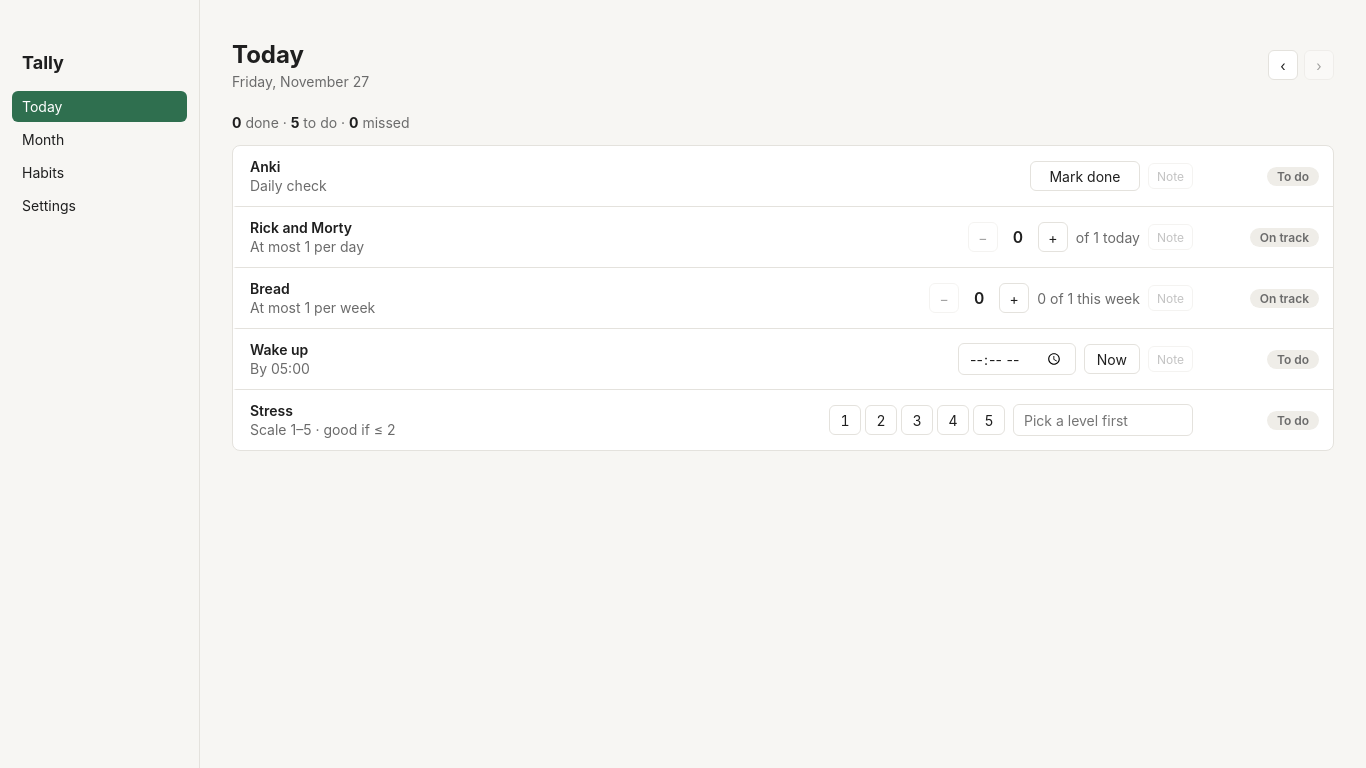
TodayPage › logs a time and shows how early it was
In the time field named "Wake up time": [1017, 359] box top-left (958, 343), bottom-right (1076, 375), type "04:48"
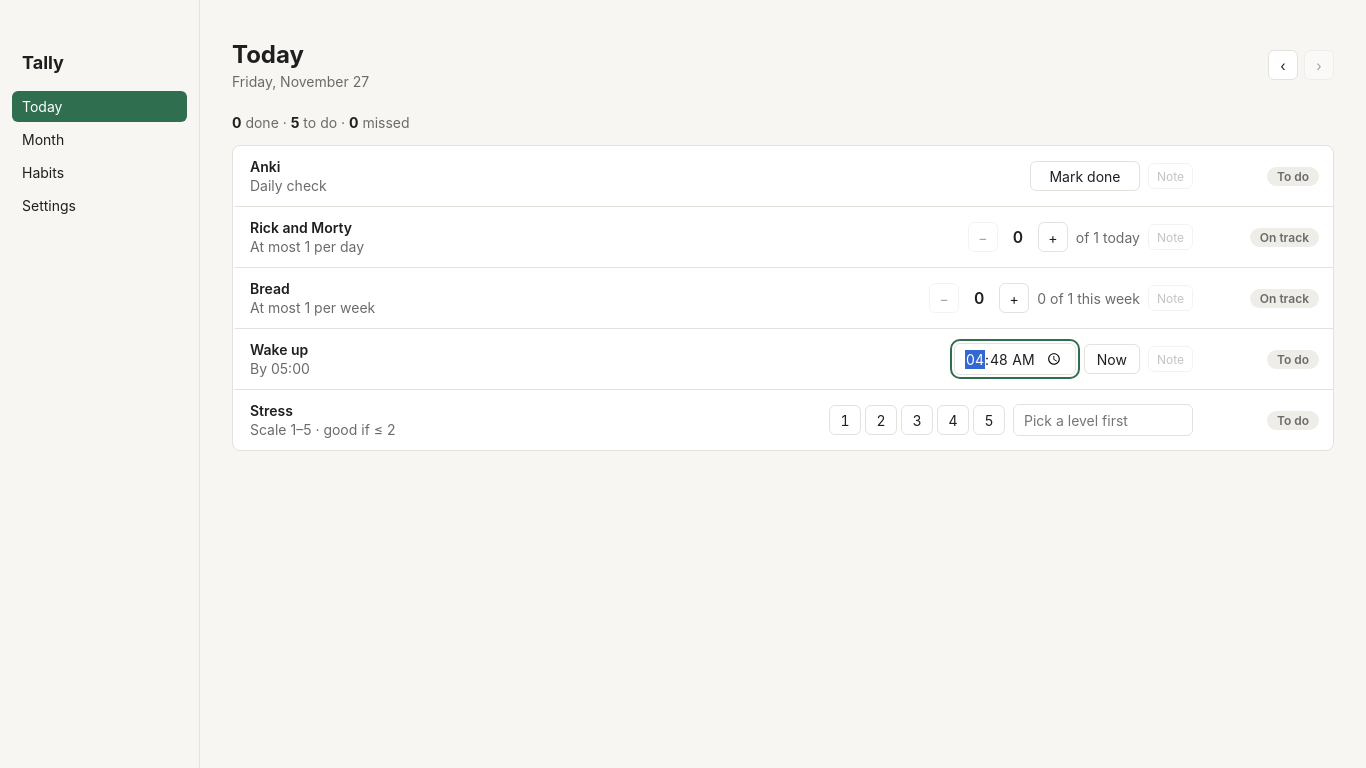
Press Tab
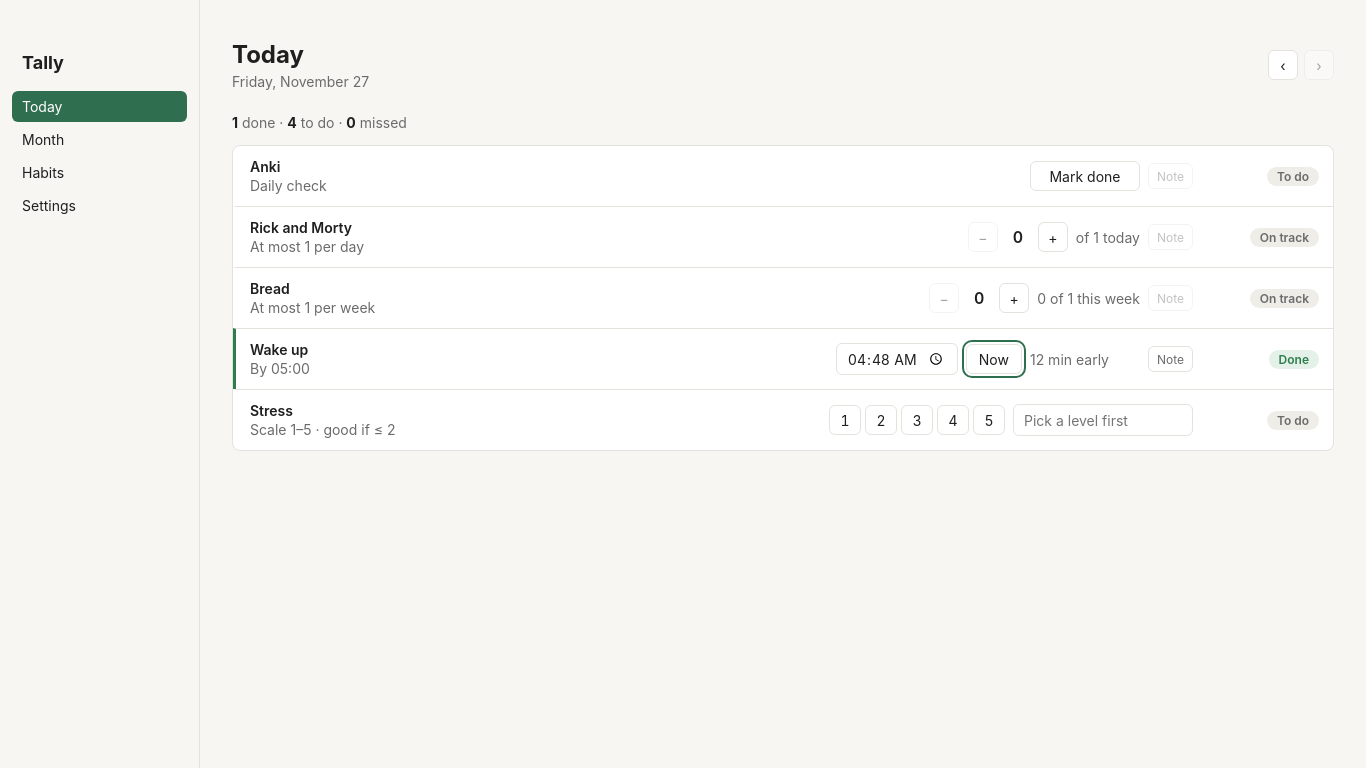
Check: the text "12 min early" is shown, box top-left (1030, 350), bottom-right (1109, 368)
Check: the text "Done" is shown, box top-left (1269, 350), bottom-right (1319, 368)
